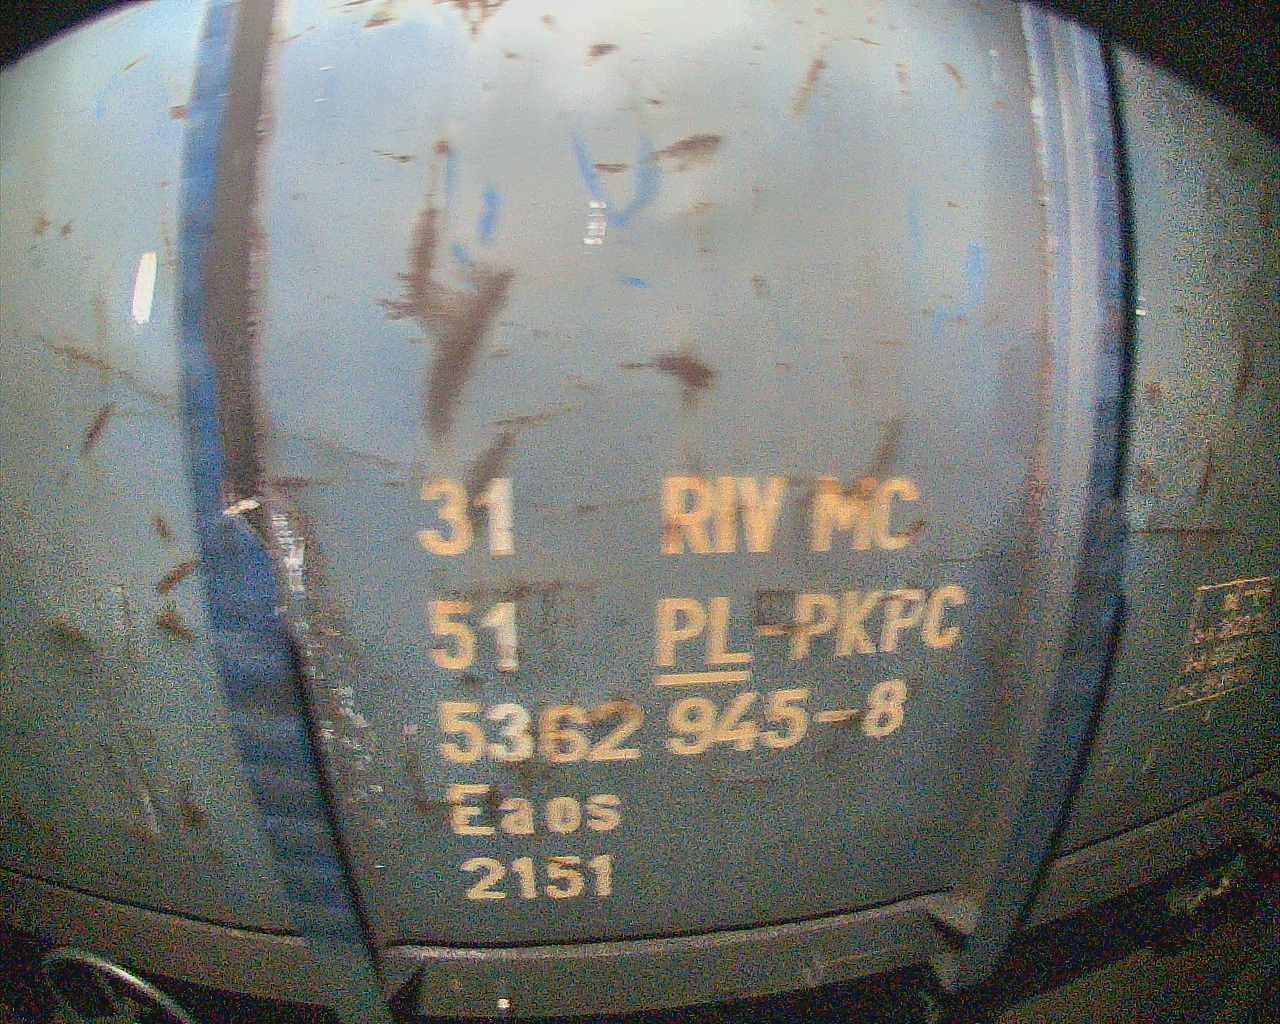UIC: (411, 462, 983, 915)
